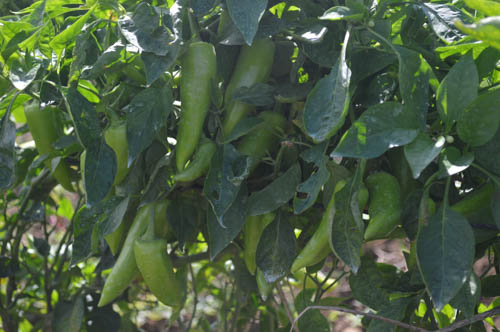ChiliPepper: (98, 201, 172, 308), (293, 183, 364, 275), (226, 36, 277, 138), (177, 43, 214, 167), (26, 103, 72, 188), (132, 239, 186, 311), (239, 115, 286, 176), (365, 174, 404, 247), (173, 140, 214, 186), (102, 125, 129, 185), (409, 200, 431, 265), (241, 206, 258, 276)
